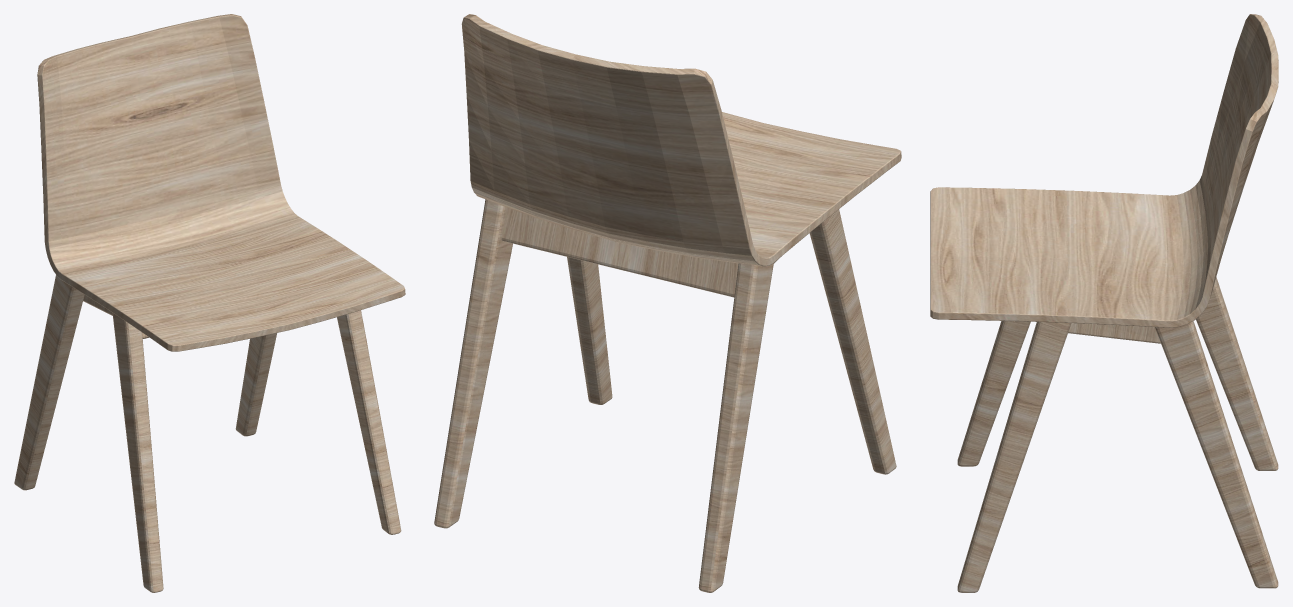
The model's file is osakaChair.obj.
3 views of the same model, side by side, from view 1: azimuth 30°, elevation 25°; view 2: azimuth 150°, elevation 25°; view 3: azimuth 270°, elevation 25° (orthographic). The views are drawn at different scales.
Parts seen in each view (by area): view 1: Osaka_Plane.008; view 2: Osaka_Plane.008; view 3: Osaka_Plane.008.
Part boxes in pixels (x1,y1,x2,y2): Osaka_Plane.008: (14,14,405,592); Osaka_Plane.008: (434,14,901,592); Osaka_Plane.008: (930,14,1278,592).
Size of the model in its own units: 47.5 by 76.97 by 52.48.
